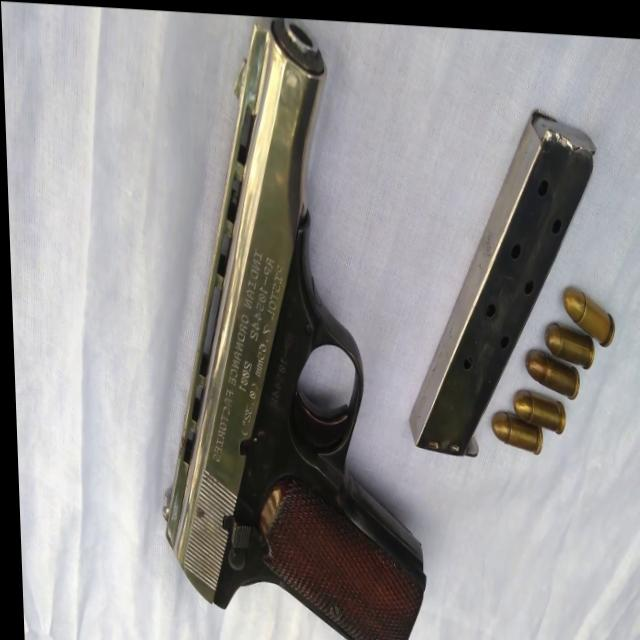handgun: (146, 9, 425, 640)
